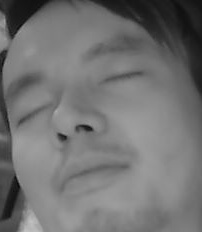blink: (15, 102, 54, 127), (97, 66, 143, 85)
mouth: (52, 148, 132, 196)
